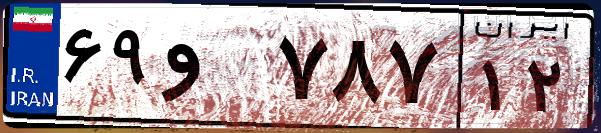1: (475, 38, 525, 113)
2: (525, 38, 570, 115)
6: (57, 26, 110, 100)
7: (270, 28, 330, 110), (385, 28, 445, 110)
8: (330, 28, 385, 110)
9: (110, 28, 158, 98)
و: (158, 20, 270, 120)
